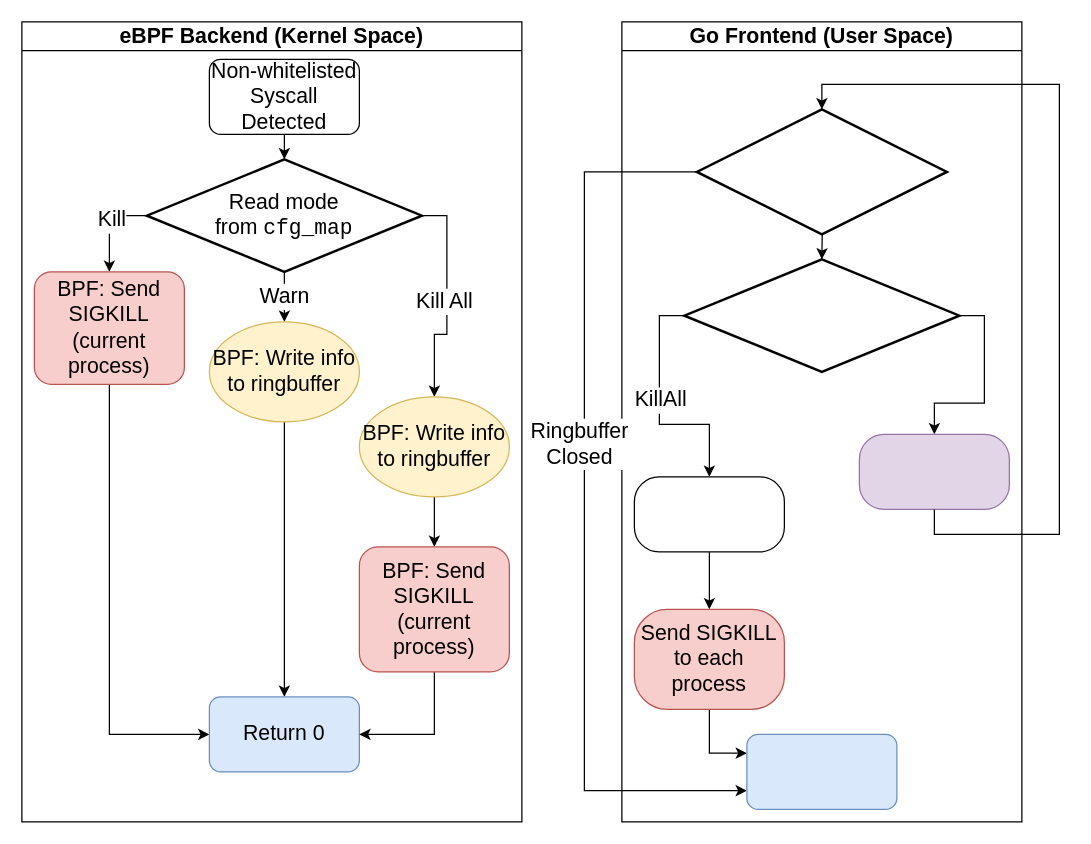
Some shapes in this 1091 by 844 pixel diagram are drawn without their labels. Each missing label, with the centre of its shape:
Iterate follow map: (708,514)
Read mode from FilterCfg struct: (821,315)
Return wil err=nil: (821,771)
User: Log event: (933,471)
Wait to read from ringbuffer: (821,171)
